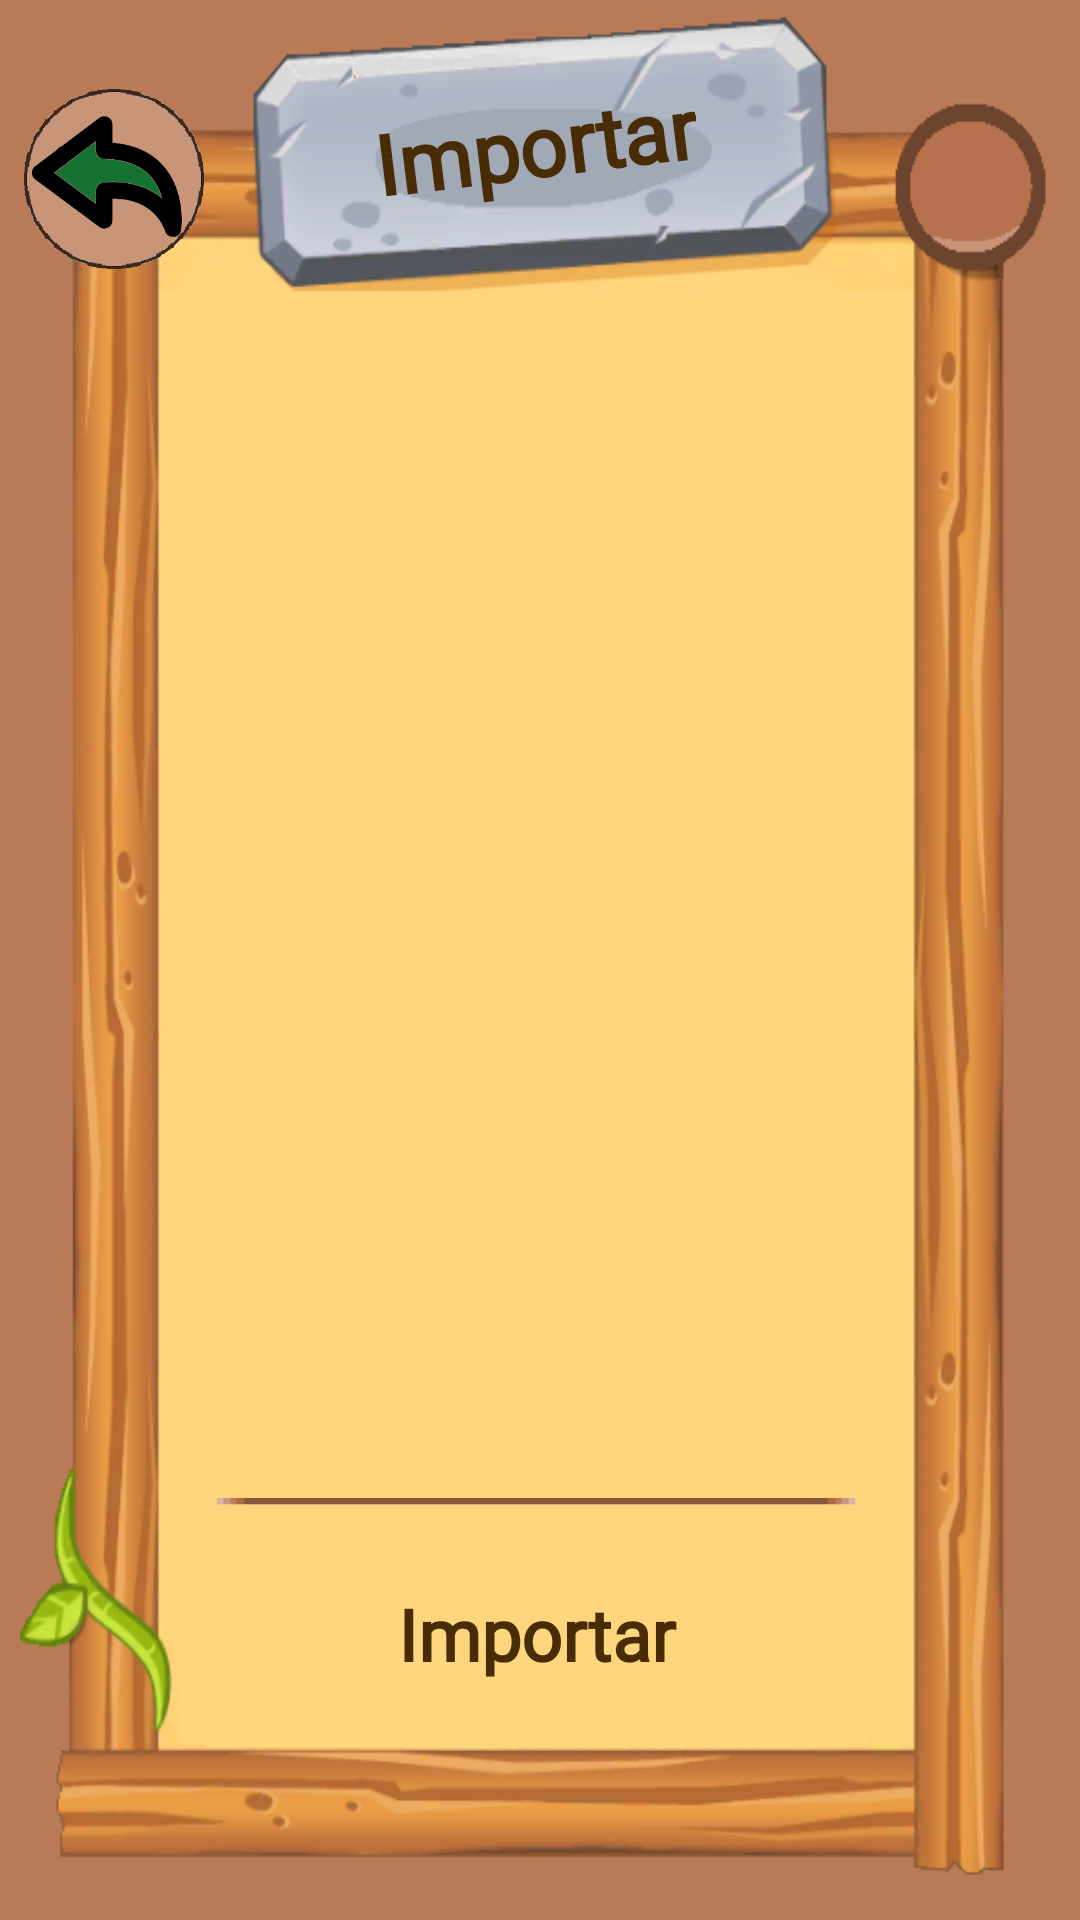

Point at icon controls on the screen. Image size 1080px x 1920px, points as point (x, y).
back: point (114, 179)
